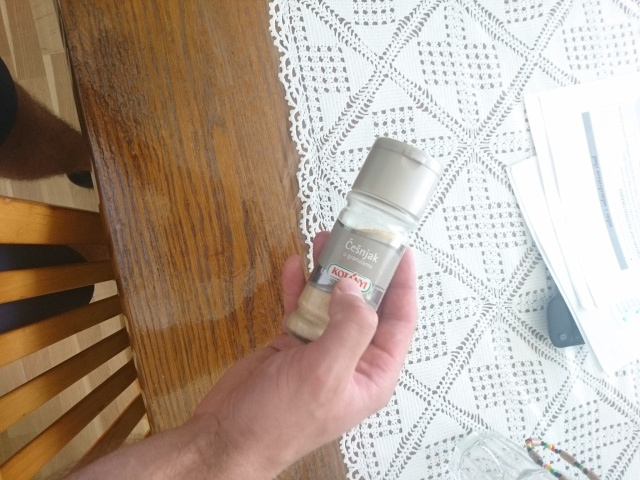Kotanyi Garlic Granules 70g: (279, 134, 447, 361)
